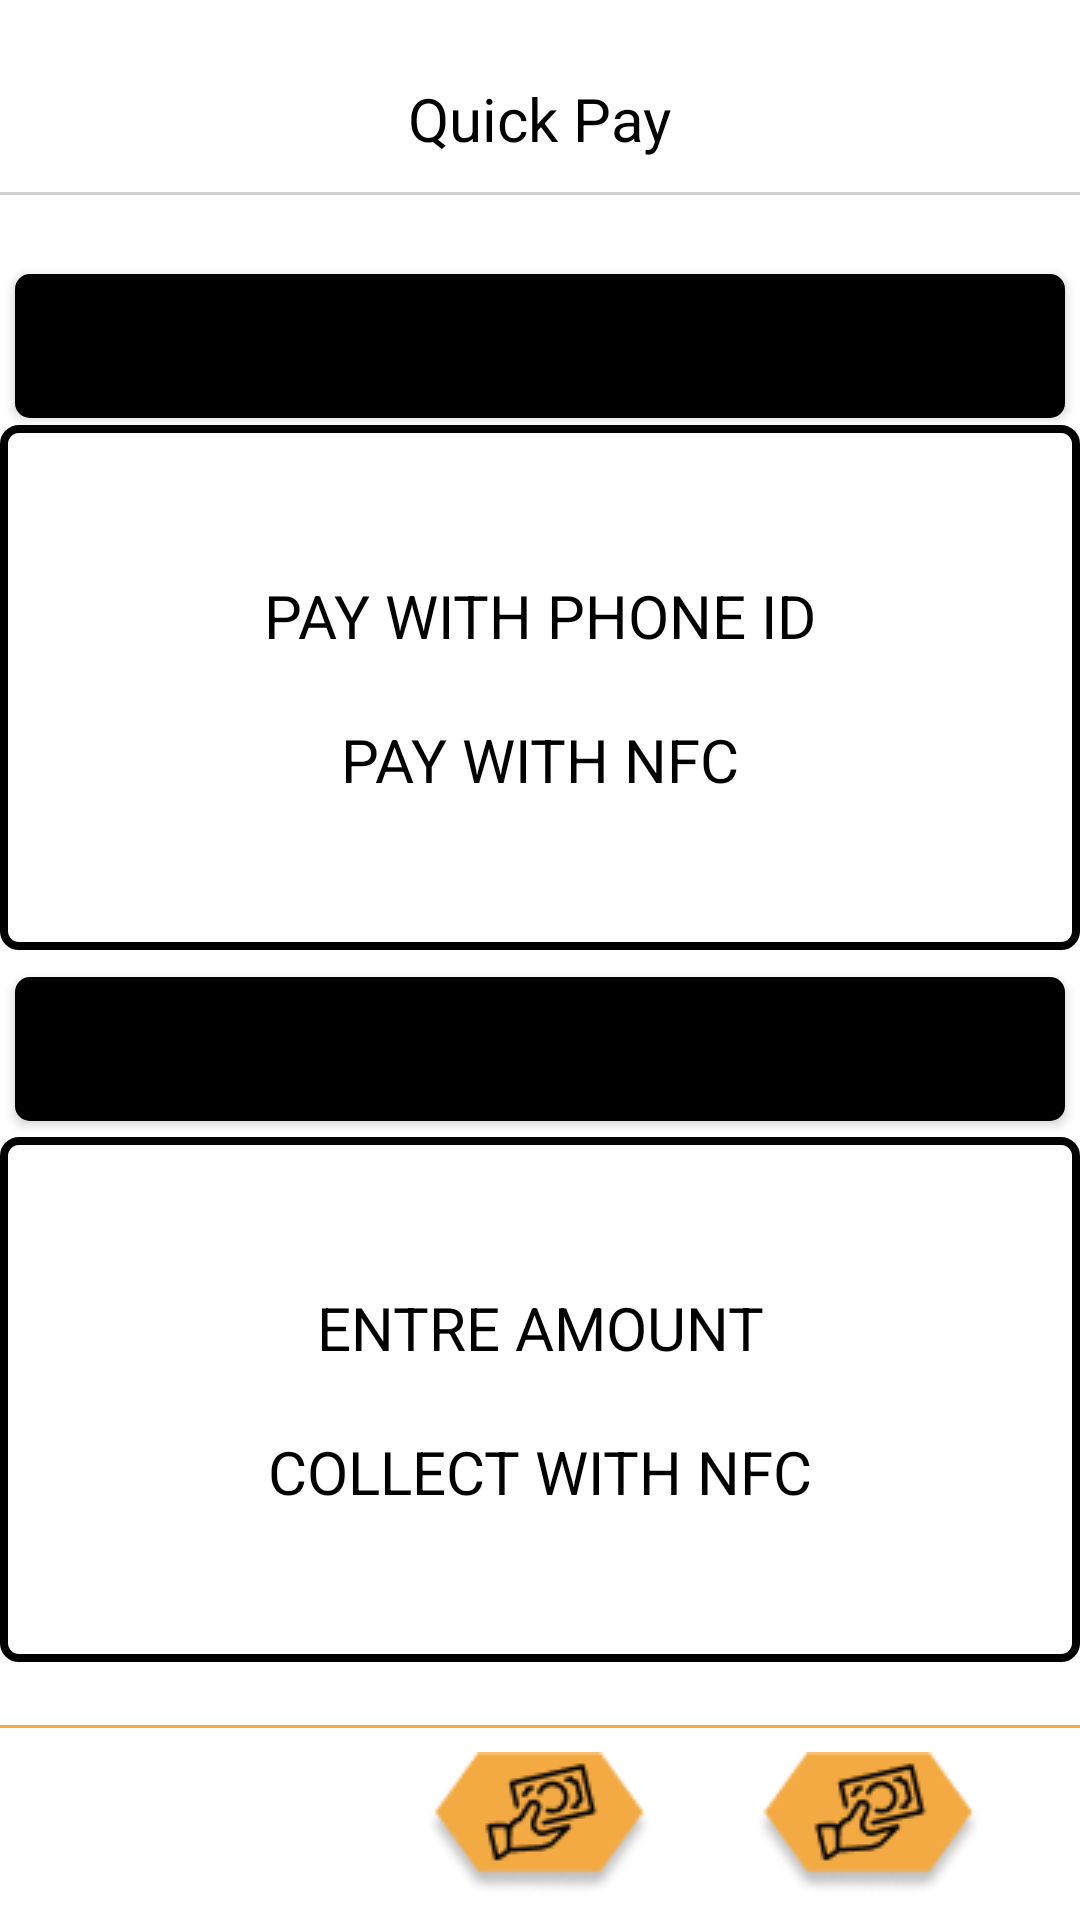

Named icons in this screenshot (1080x1920) and their bounding boxes, (x1, y1, x2, y2):
pay: (434, 1752, 644, 1885), (763, 1752, 973, 1885)
